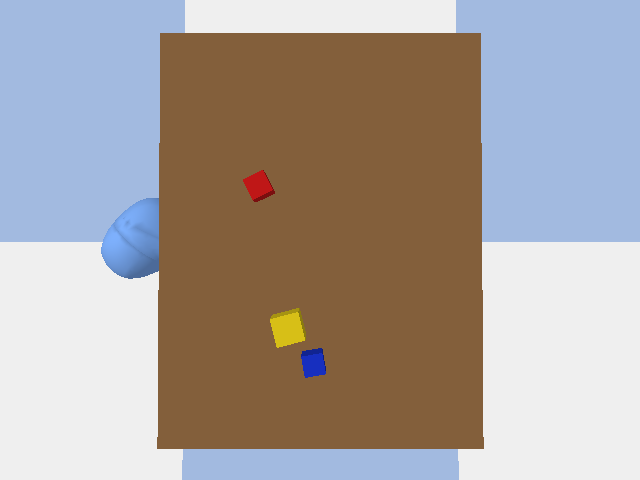blue_obj: (301, 348, 325, 377)
red_obj: (243, 170, 274, 201)
yellow_obj: (270, 308, 305, 347)
